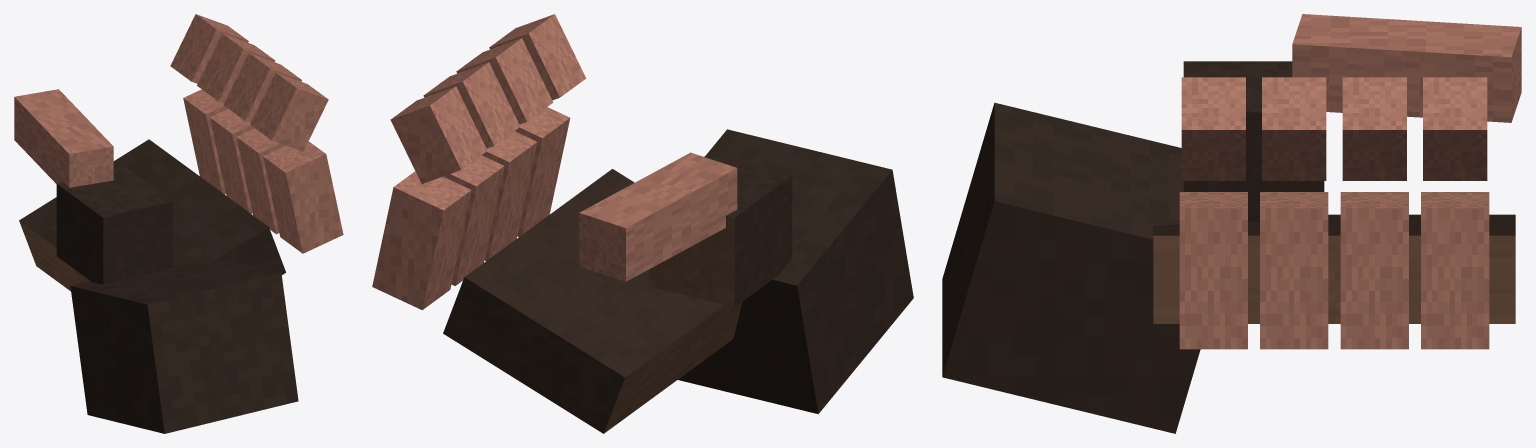
File: hand_left_support.glb
The picture shows the model from 3 angles, left to right: view 1: azimuth 30°, elevation 25°; view 2: azimuth 150°, elevation 25°; view 3: azimuth 270°, elevation 25°; orthographic projection. The views are drawn at different scales.
Visible parts, largest first — view 1: hand_left_support; view 2: hand_left_support; view 3: hand_left_support.
Boxes of the visible parts, <box> form: hand_left_support: <box>14,14,343,433</box>; hand_left_support: <box>372,14,913,433</box>; hand_left_support: <box>942,14,1521,433</box>.
Bounding box in the file's own units: 0.1115 × 0.1134 × 0.1439.
Materials: 1 (1 with a texture image).
